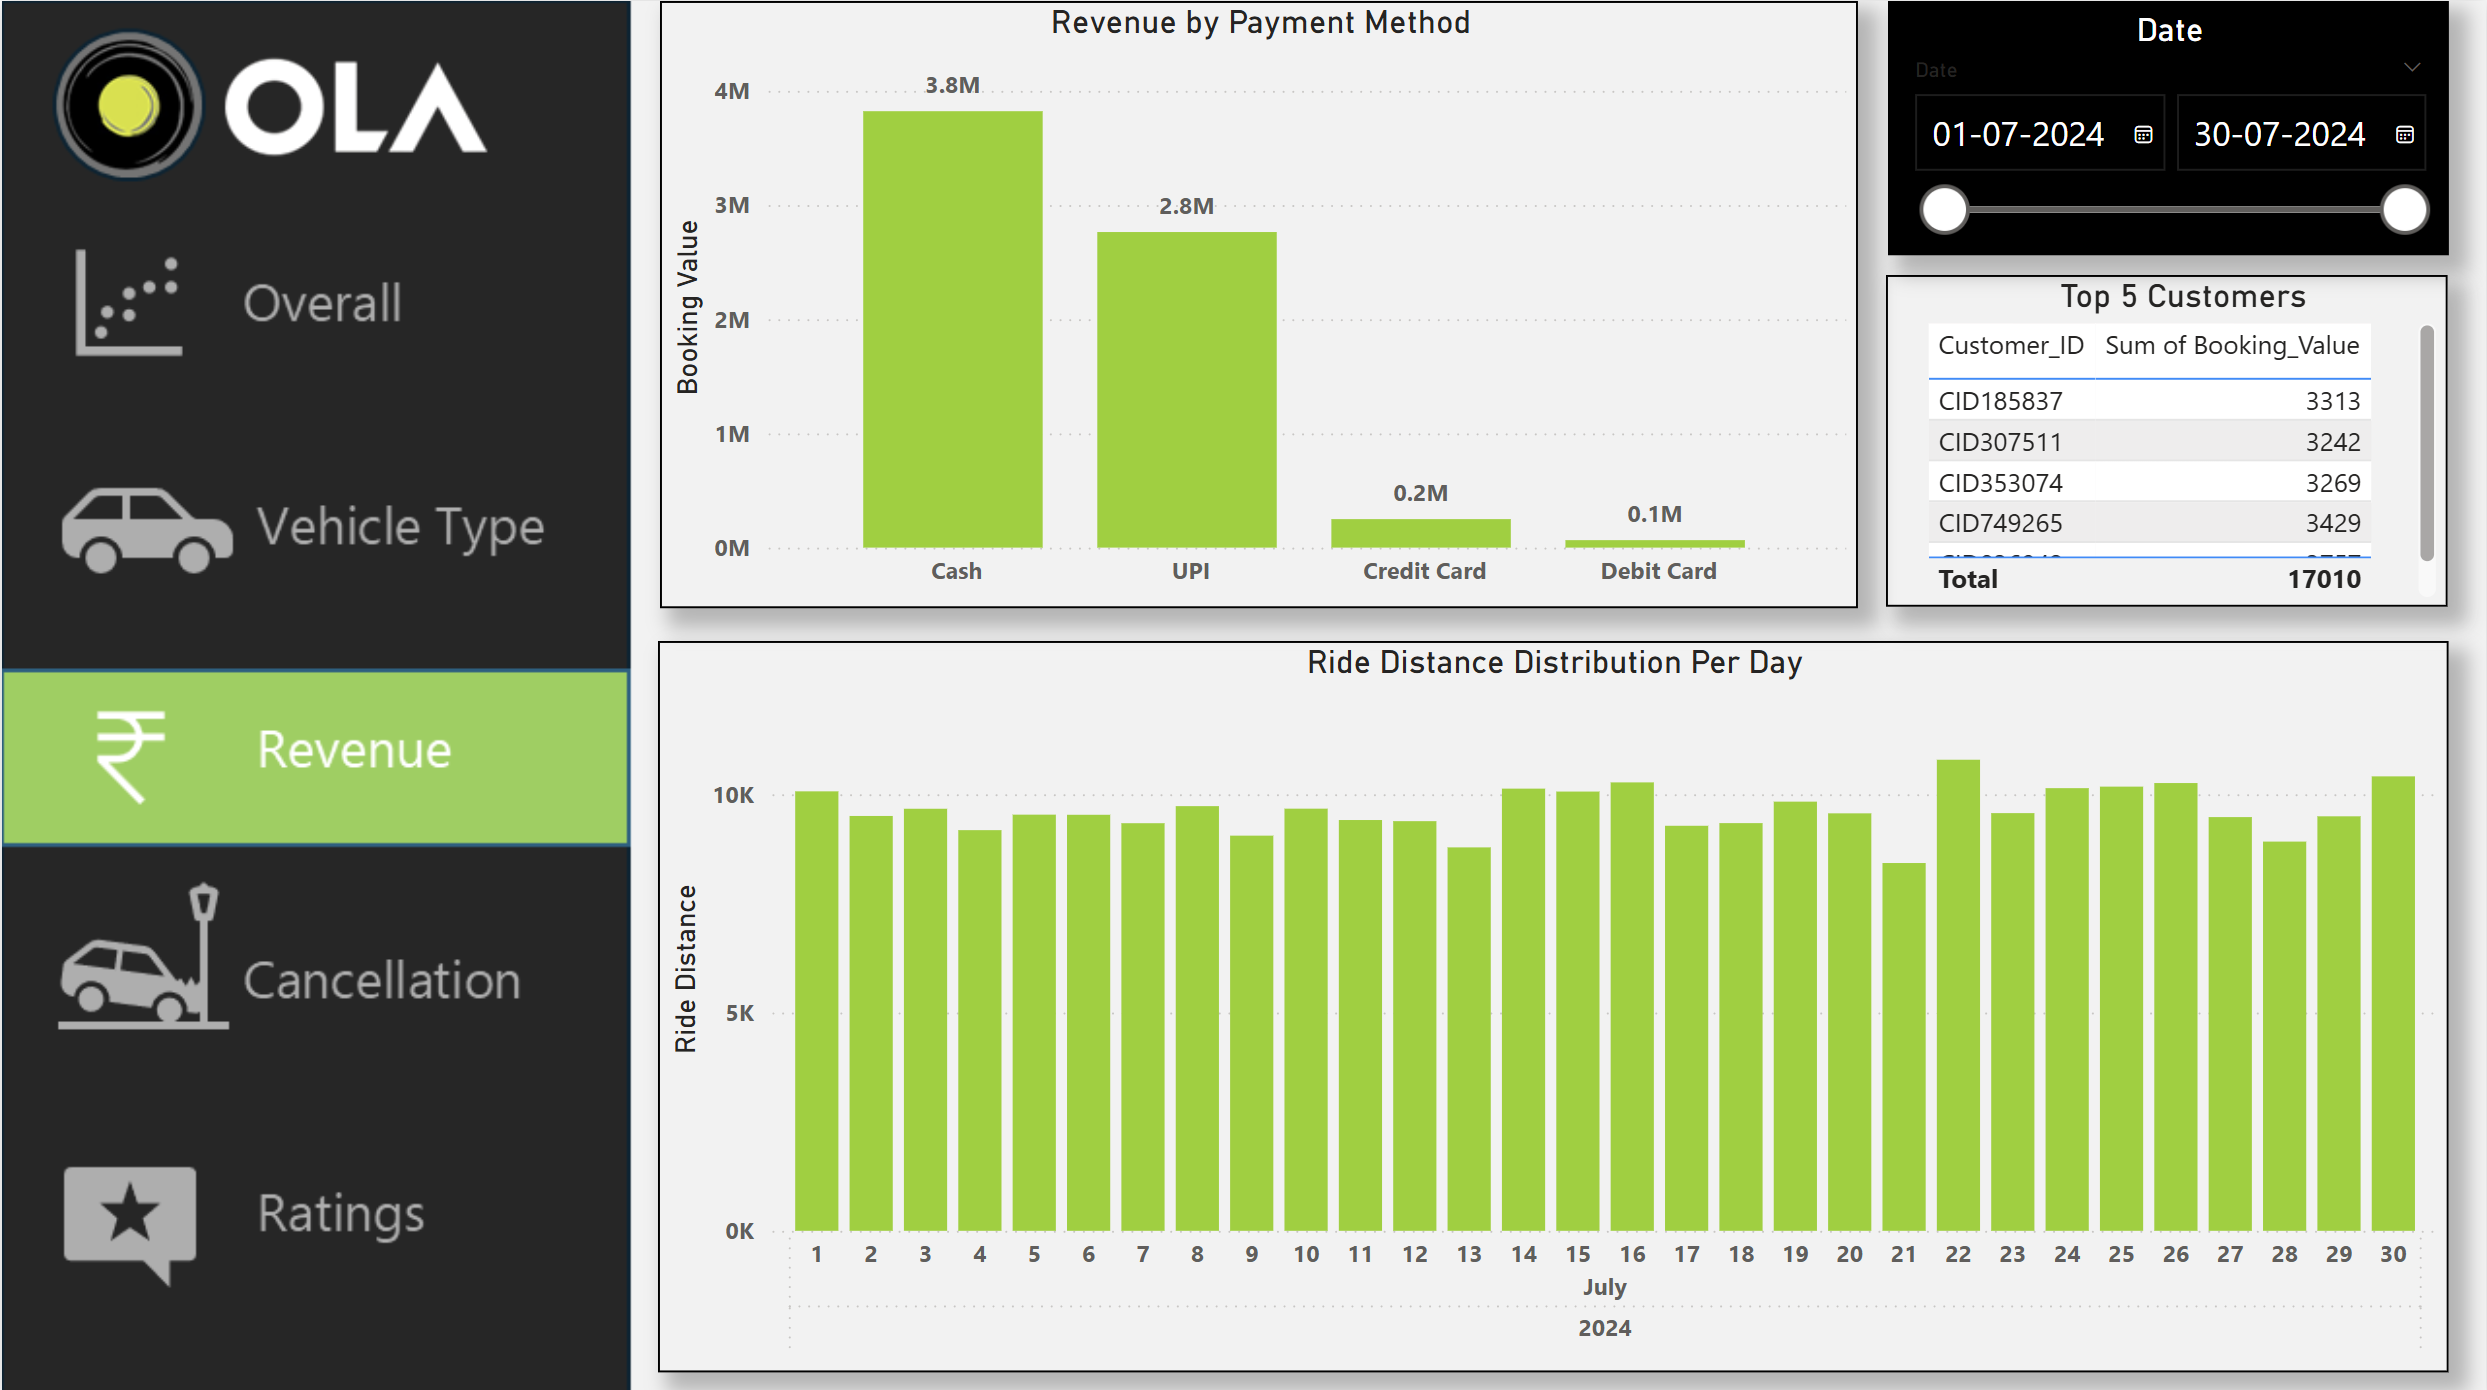

The page's visual inventory and layout, read from the dashboard file:
{"tool":"powerbi","page":{"name":"Revenue","canvas":[1280,720],"ordinal":2},"visuals":[{"type":"actionButton","box":[0,221.6,325,92],"z":0},{"type":"actionButton","box":[0,456.8,325,92],"z":1000},{"type":"actionButton","box":[0,581.8,325,92],"z":2000},{"type":"actionButton","box":[0,109.1,325,92],"z":3000},{"type":"columnChart","title":"Revenue by Payment Method","fields":{"Category":["July.Payment_Method"],"Y":["Sum(July.Booking_Value)"]},"box":[339.2,0,617.6,312.8],"z":4000},{"type":"columnChart","title":"Ride Distance Distribution Per Day","fields":{"Y":["Sum(July.Ride_Distance)"],"Category":["July.Date.Variation.Date Hierarchy.Year","July.Date.Variation.Date Hierarchy.Month","July.Date.Variation.Date Hierarchy.Day"]},"box":[338.6,330,922.9,377.1],"z":5000},{"type":"slicer","title":"Date","fields":{"Values":["July.Date"]},"box":[972.1,0,288.8,131.2],"z":6000},{"type":"tableEx","title":"Top 5 Customers","fields":{"Values":["July.Customer_ID","Sum(July.Booking_Value)"]},"box":[971.3,141.6,289.6,171.2],"z":7000}]}

Visuals, with their boxes in screenshot pixels (x1, y1, x2, y2), scaled from the page's 1280x720 canvas onto the 2487x1390 screenshot:
actionButton: select_region(0, 428, 631, 605)
actionButton: select_region(0, 882, 631, 1059)
actionButton: select_region(0, 1123, 631, 1301)
actionButton: select_region(0, 211, 631, 388)
"Revenue by Payment Method" columnChart: select_region(659, 0, 1859, 604)
"Ride Distance Distribution Per Day" columnChart: select_region(658, 637, 2451, 1365)
"Date" slicer: select_region(1889, 0, 2450, 253)
"Top 5 Customers" tableEx: select_region(1887, 273, 2450, 604)
